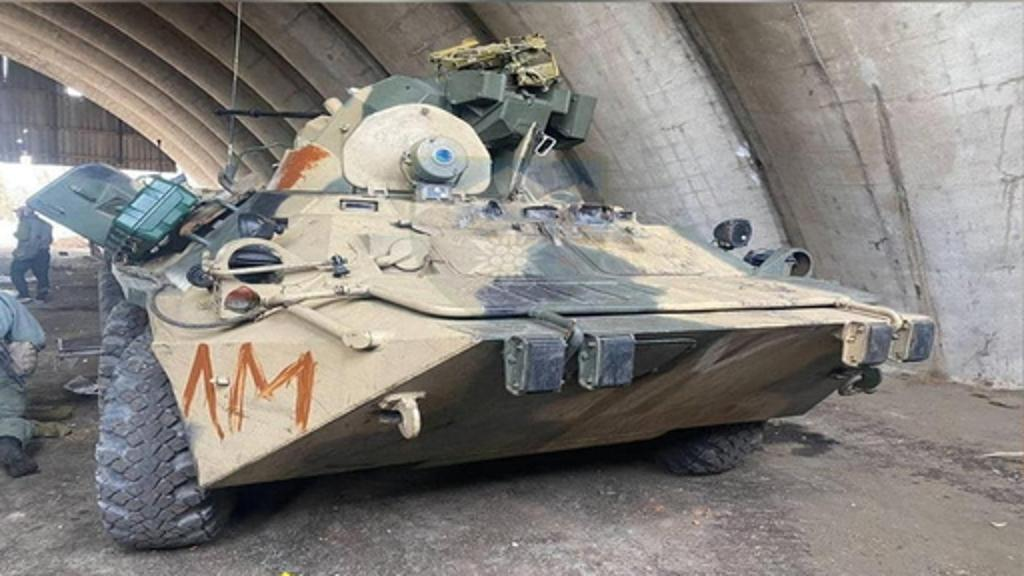APC-IFV: (22, 38, 918, 554)
